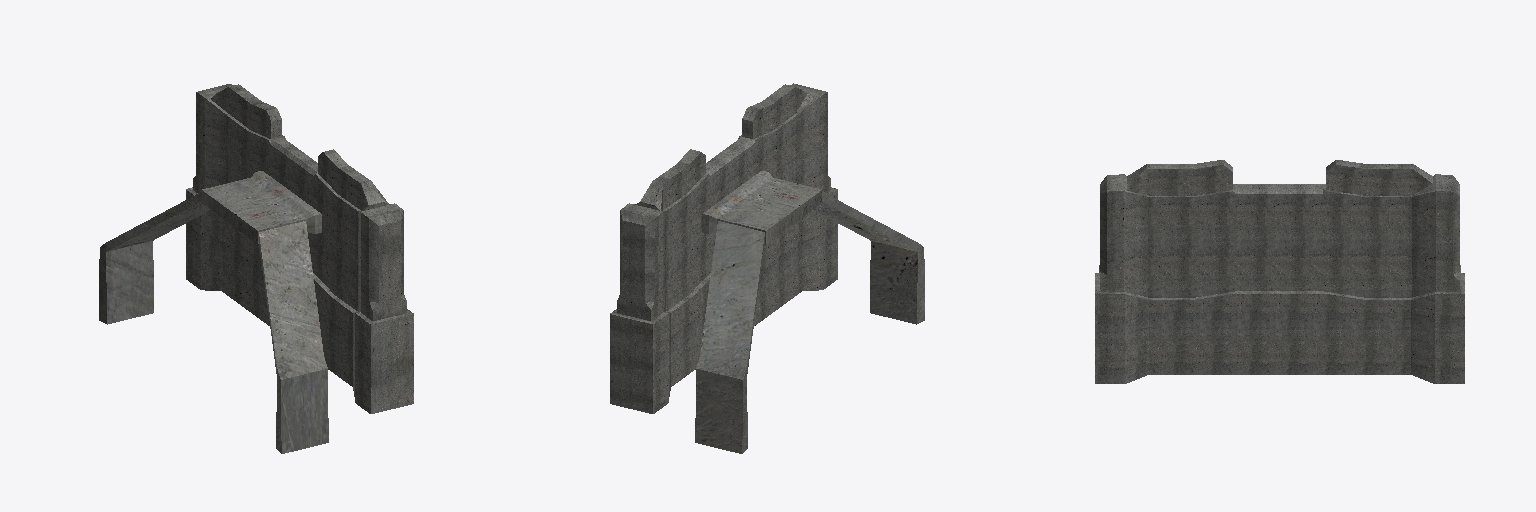
3 renders of one model, left to right at view 1: azimuth 30°, elevation 25°; view 2: azimuth 150°, elevation 25°; view 3: azimuth 270°, elevation 25°, orthographic.
Visible parts, largest first — view 1: Cube; view 2: Cube; view 3: Cube.
Part boxes in pixels (x1,y1,x2,y2): Cube: (99, 84, 413, 453); Cube: (610, 83, 924, 453); Cube: (1095, 160, 1464, 383).
Bounding box in the file's own units: 14.61 × 24.46 × 35.57.
1 materials, 1 textured.